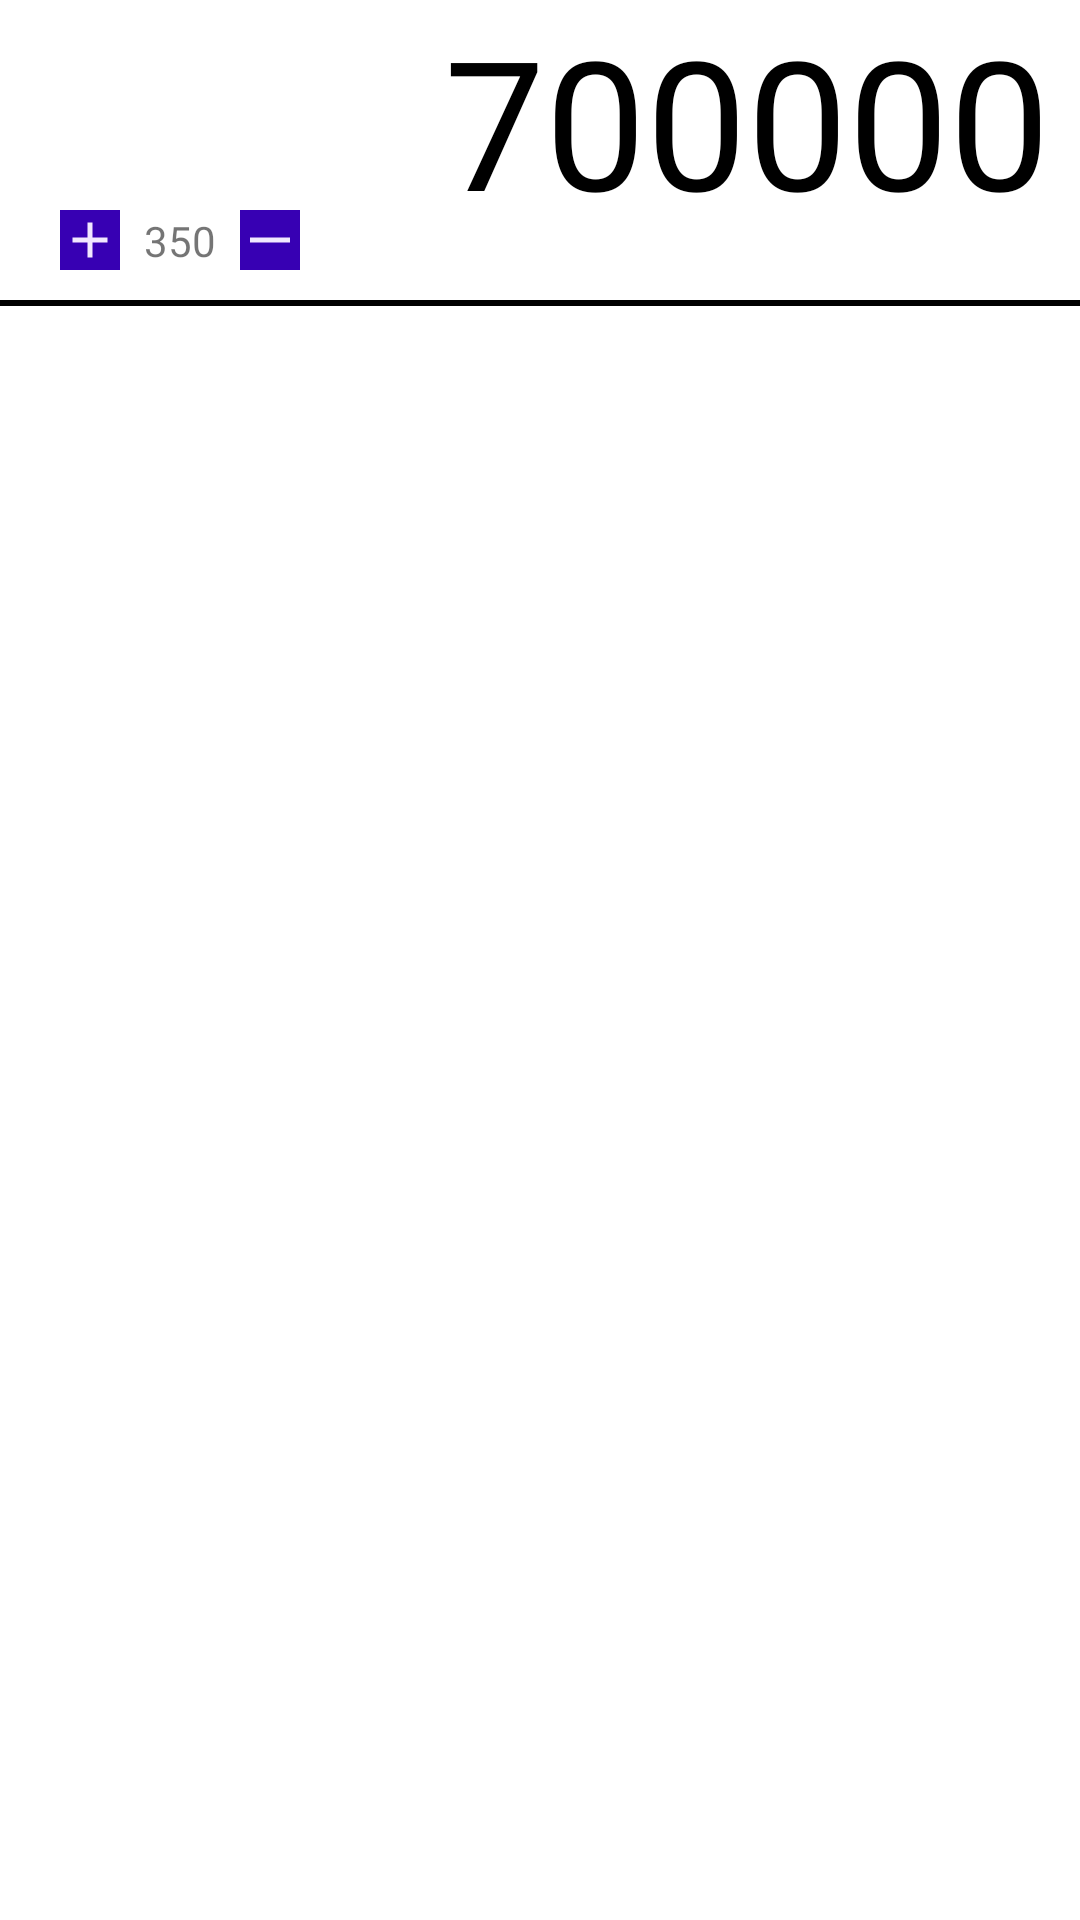

Icons on this 1080px×1920px Android screen, each with the point to tap as point (x, y):
add: point (90, 240)
subtract: point (270, 240)
